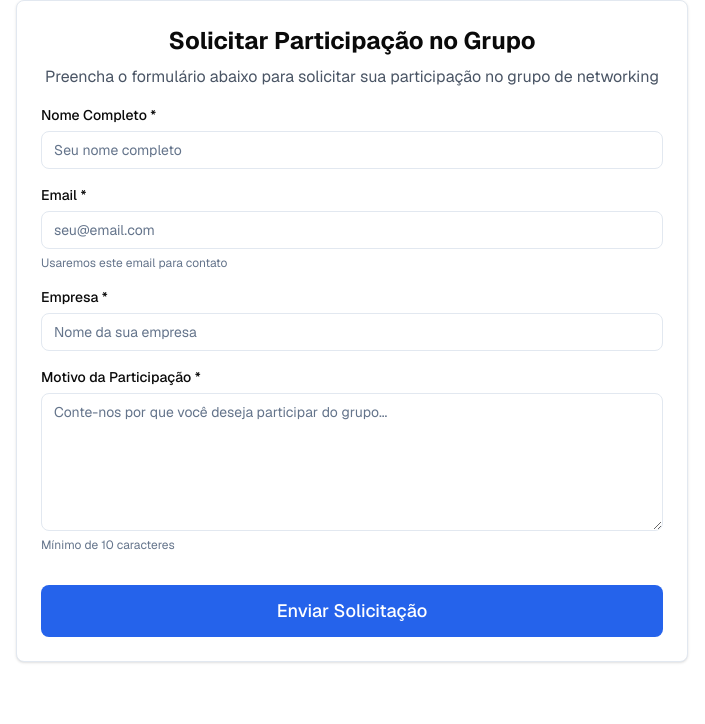
Scenario: IntentionForm › deve validar tamanho mínimo do motivo
The width and height of the screenshot is (705, 724).
In the text box labelled "Motivo da Participação *": (352, 462) [41,393,663,531], type "curto"
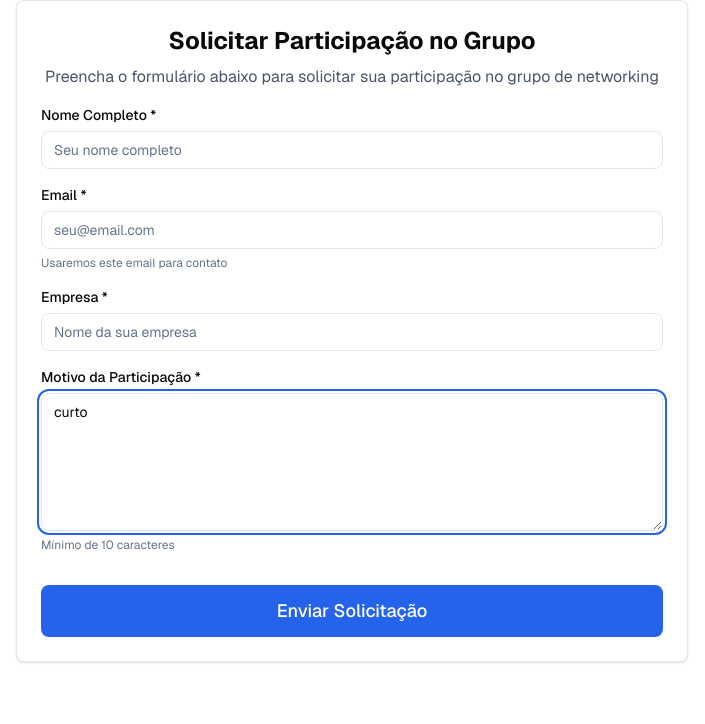
Click the button "Enviar Solicitação": (352, 611) [41,585,663,637]
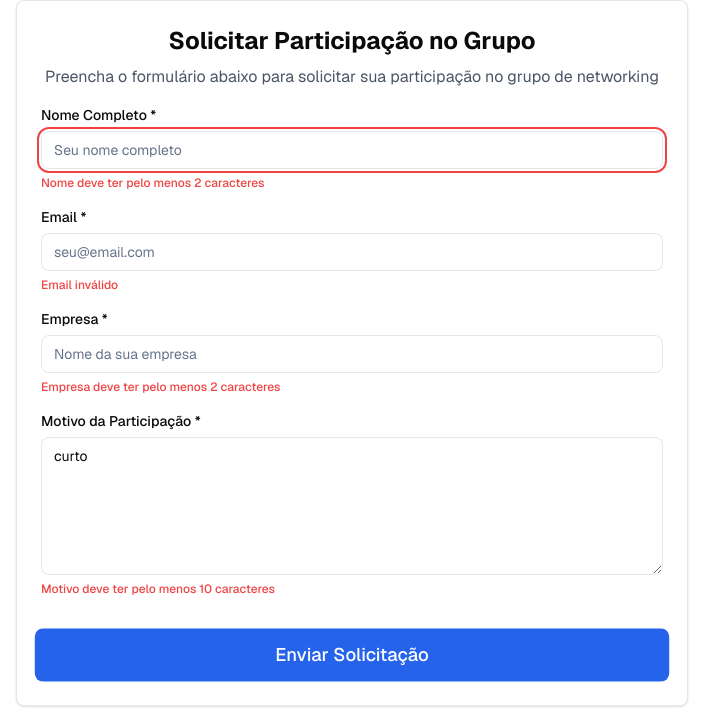
Check: the text "Motivo deve ter pelo menos 10 caracteres" is shown, box [41,581,275,597]
